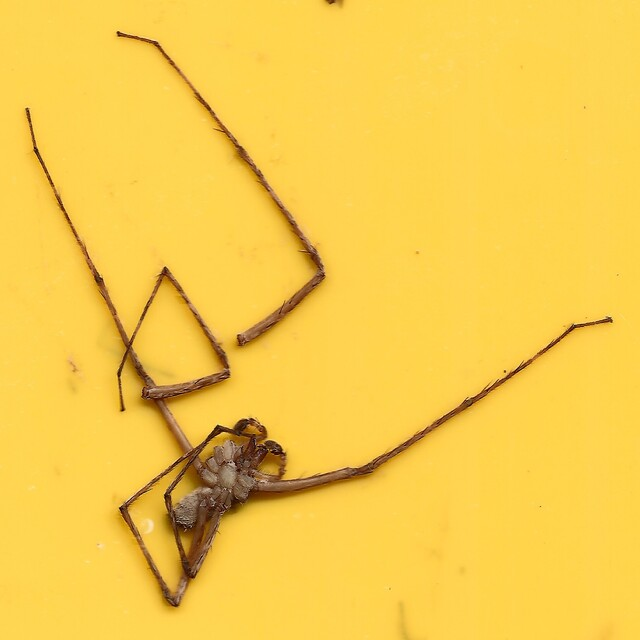Araneae: (24, 31, 616, 609)
